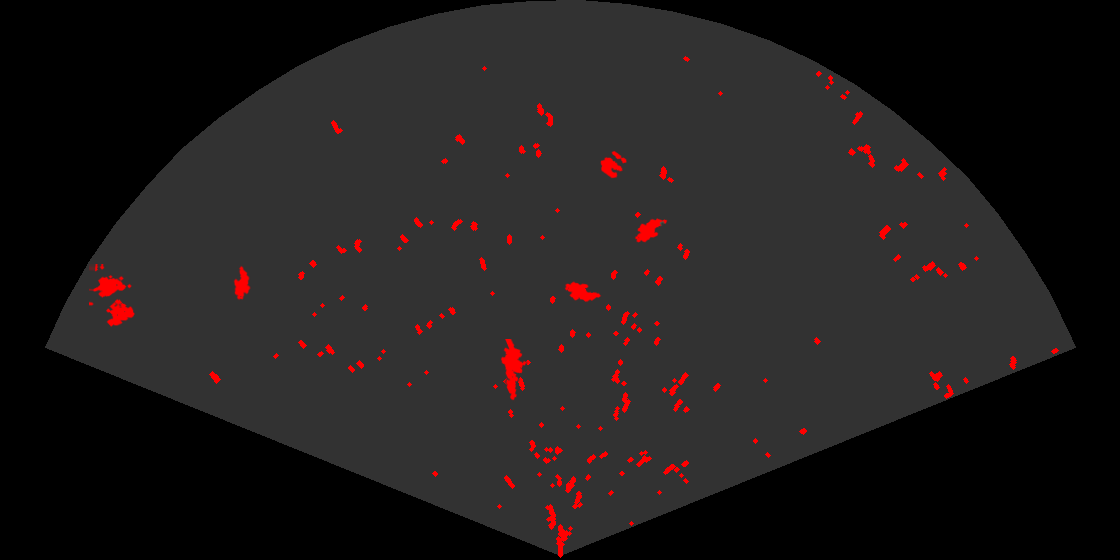AUV: (633, 217, 669, 244), (563, 280, 603, 304), (232, 264, 252, 302)
ball: (599, 149, 628, 180)
cage: (89, 264, 136, 329)
frogman: (499, 339, 528, 403)
